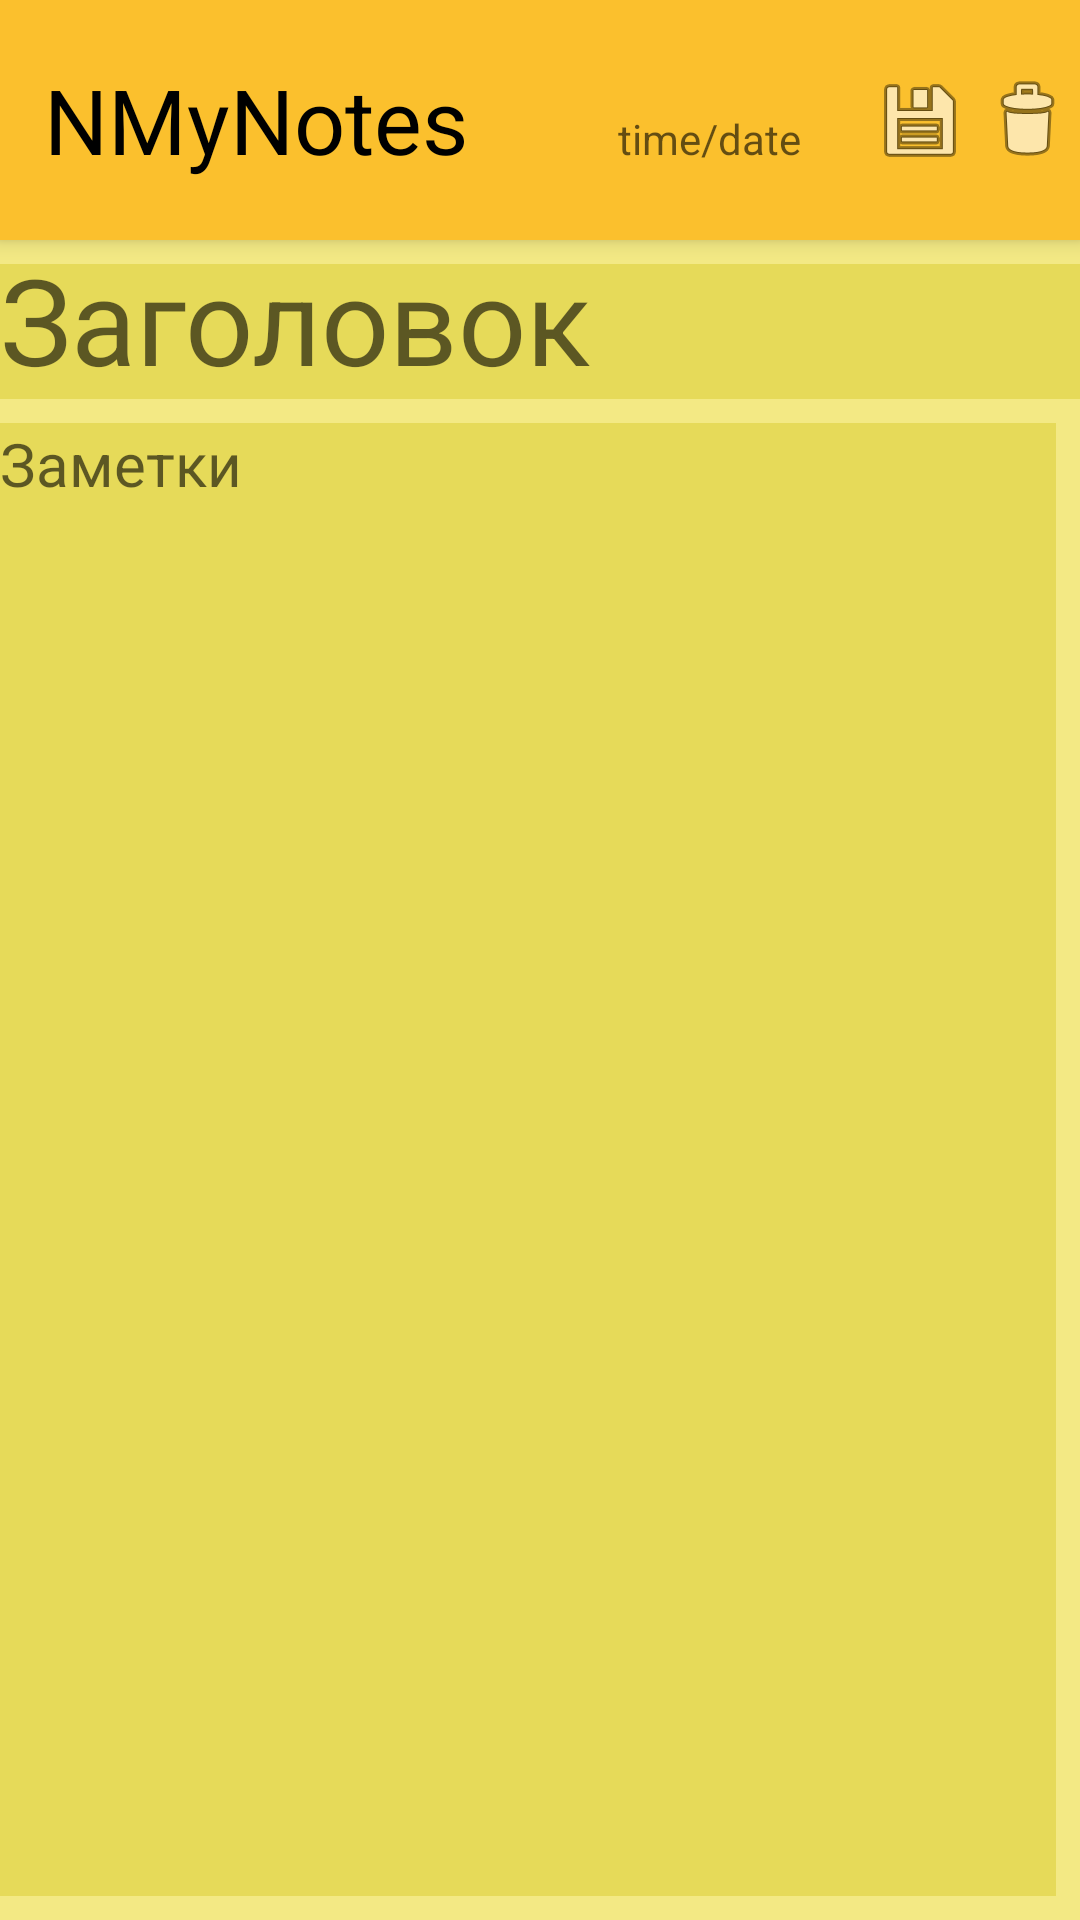

Screen size 1080×1920. Icon name, then its box in pixels as (x1, y1, x2, y2):
delete: (1000, 81, 1055, 156)
save: (884, 84, 956, 157)
